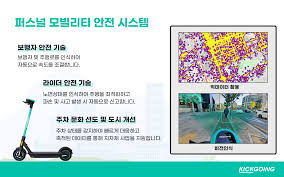kick_body: (31, 152, 59, 158)
kick_handler: (22, 98, 34, 106)
kick_neck: (21, 109, 32, 141)
kick_wheel: (59, 147, 73, 161), (13, 148, 26, 161)
